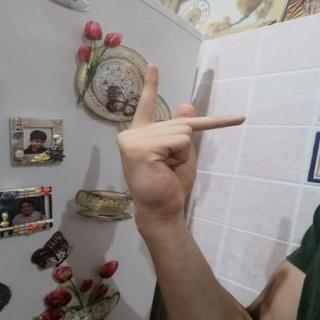DHAA: (106, 58, 255, 224)
